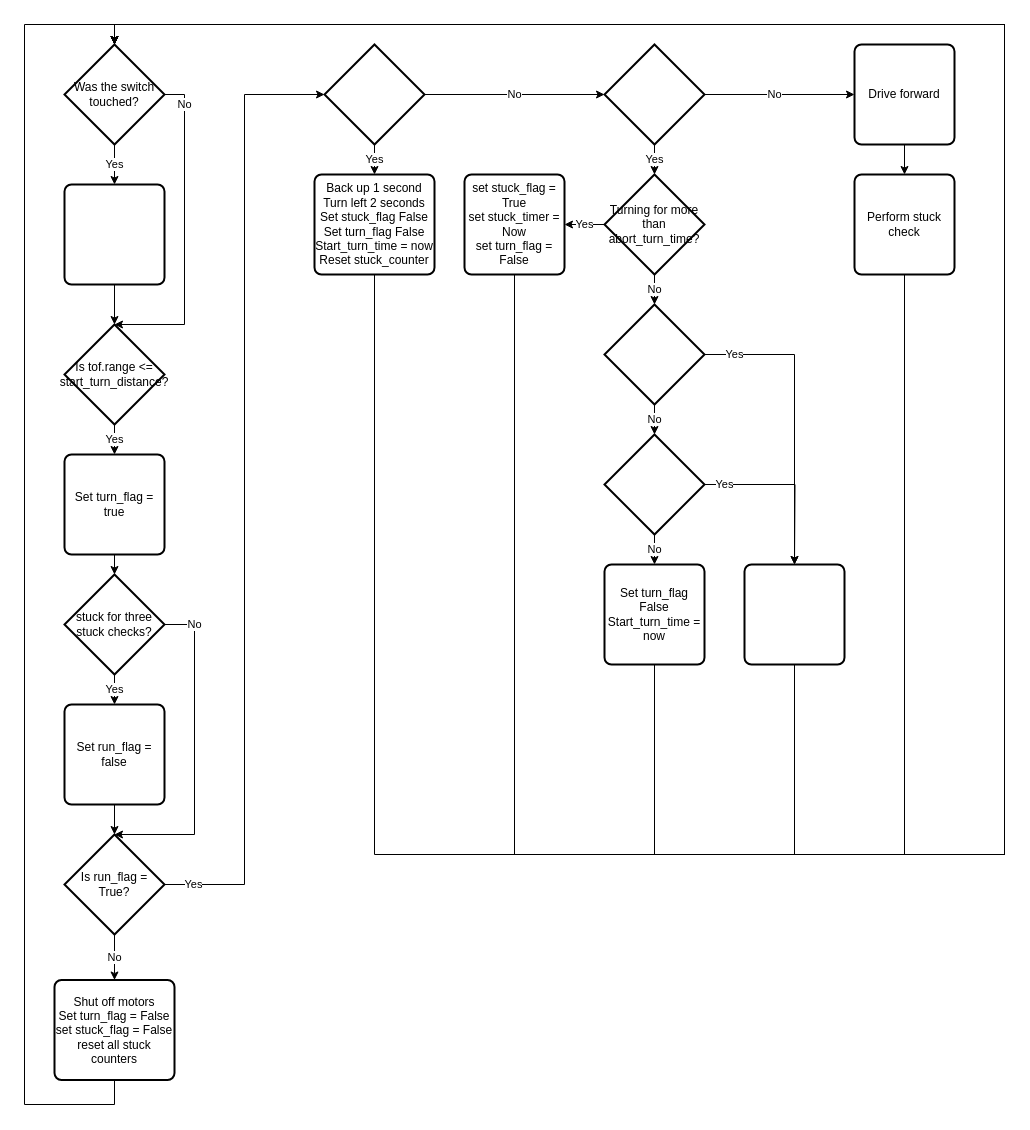
Image size: 1030x1130. Some labels were removed from this diagram. The box of each missing label's shape, as (x1, y1, x2, y2) in pixels:
Invert run_flag: (63, 183, 165, 285)
Is stuck_flag True?: (323, 43, 425, 145)
Is turn_flag True?: (603, 43, 705, 145)
tof.range < stop_turn_distance?: (603, 303, 705, 405)
Turn right: (743, 563, 845, 665)
Turning for less than turn_time?: (603, 433, 705, 535)
